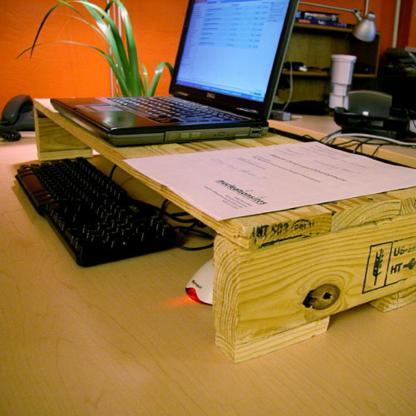board: (104, 1, 301, 144)
